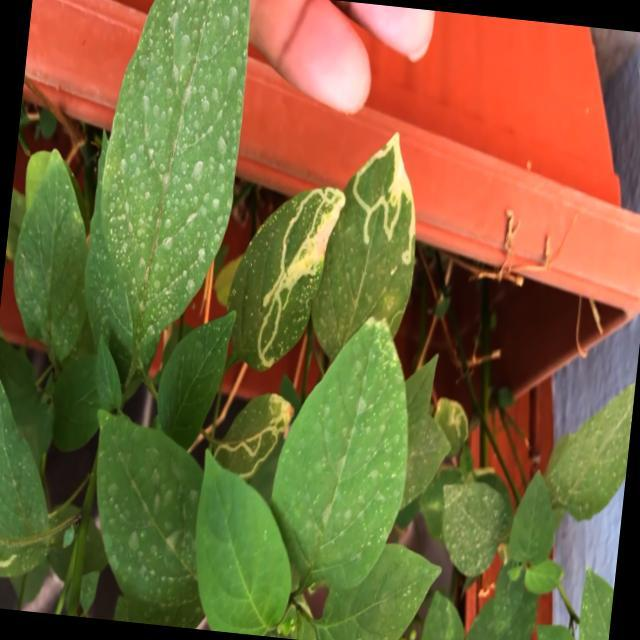Tomato healthy leaf: (183, 450, 303, 638), (152, 301, 236, 453)
Tomato target spot leaf: (306, 124, 428, 367), (218, 174, 347, 381), (207, 385, 296, 509), (429, 392, 474, 458), (0, 529, 51, 587)
